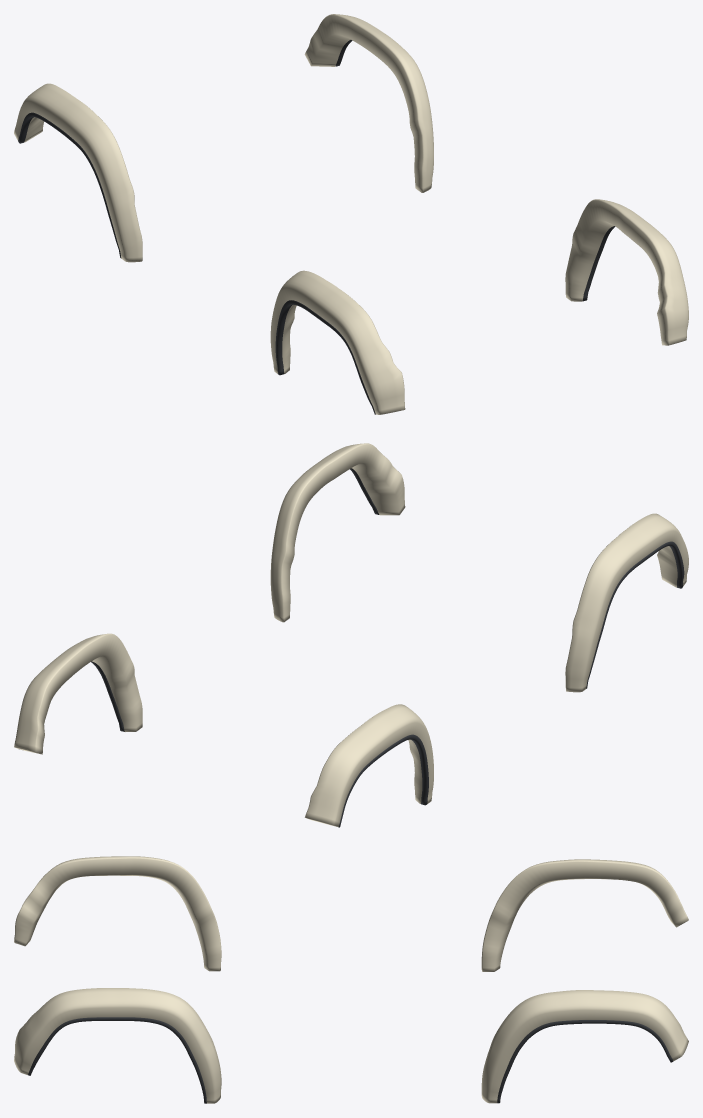
File: fender_klc_fender_garnish.glb
3 views of the same model, one above another, from view 1: azimuth 30°, elevation 25°; view 2: azimuth 150°, elevation 25°; view 3: azimuth 270°, elevation 25° (orthographic). The views are drawn at different scales.
Visible parts, largest first — view 1: front-1.005, rear-1.005, front1.005, rear1.005, edgefront-1, edgerear-1; view 2: front-1.005, front1.005, rear-1.005, rear1.005, edgerear-1, edgefront-1; view 3: front1.005, rear1.005, front-1.005, rear-1.005, edgefront1, edgerear1.
Boxes of the visible parts, x1,y1,x2,y2 form: front-1.005: (270,270,405,414); rear-1.005: (14,83,142,262); front1.005: (565,199,688,345); rear1.005: (304,14,433,192); edgefront-1: (275,300,375,414); edgerear-1: (18,112,121,258); front-1.005: (565,513,688,692); front1.005: (270,443,405,622); rear-1.005: (304,704,433,826); rear1.005: (14,633,142,754); edgerear-1: (338,734,428,827); edgefront-1: (586,541,684,688); front1.005: (14,988,221,1103); rear1.005: (481,990,688,1103); front-1.005: (14,856,221,971); rear-1.005: (481,859,688,971); edgefront1: (28,1017,206,1103); edgerear1: (497,1020,673,1103).
Size of the model in its own units: 1.6 by 0.5628 by 3.08.
